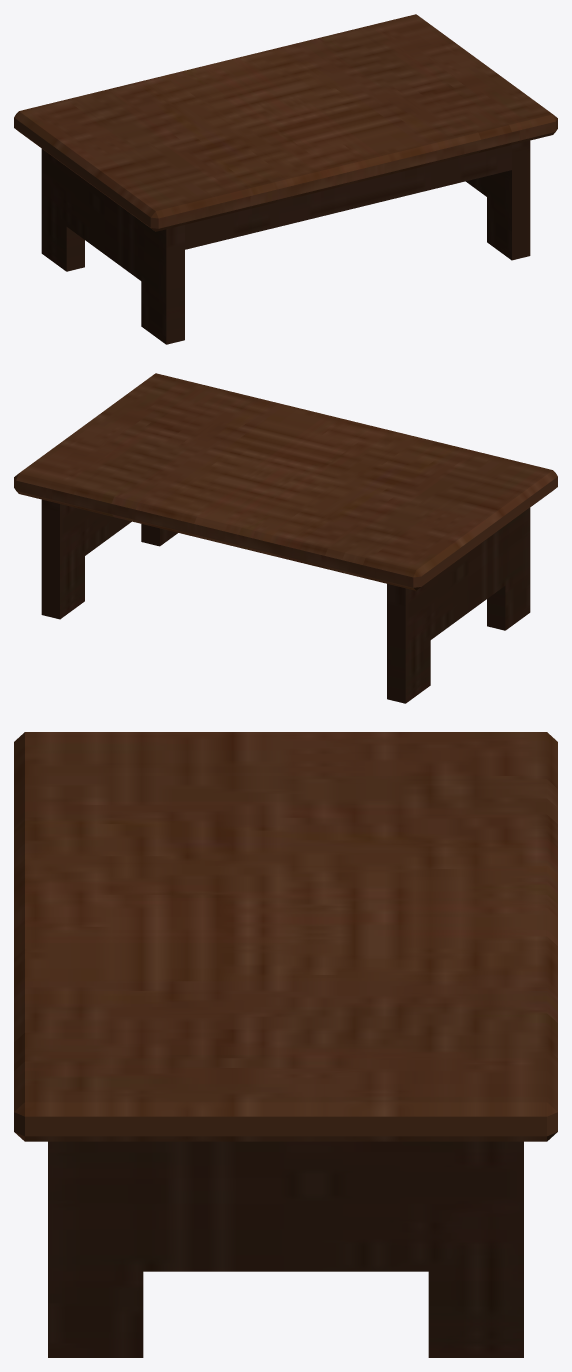
Rendered from stepstool.glb.
3 renders of one model, top to bottom at view 1: azimuth 30°, elevation 25°; view 2: azimuth 150°, elevation 25°; view 3: azimuth 270°, elevation 25°, orthographic. The views are drawn at different scales.
Visible parts, largest first — view 1: StepStoolTopBoard, StepStoolLeg0, StepStoolApron, StepStoolLeg1; view 2: StepStoolTopBoard, StepStoolLeg0, StepStoolLeg1; view 3: StepStoolTopBoard, StepStoolLeg1.
Part boxes in pixels (x1,y1,x2,y2): StepStoolTopBoard: (14, 14, 557, 231); StepStoolLeg0: (41, 149, 184, 344); StepStoolApron: (185, 145, 511, 249); StepStoolLeg1: (466, 140, 530, 260); StepStoolTopBoard: (14, 373, 557, 590); StepStoolLeg0: (387, 508, 530, 703); StepStoolLeg1: (41, 499, 177, 619); StepStoolTopBoard: (14, 732, 557, 1141); StepStoolLeg1: (48, 1141, 523, 1357).
Bounding box in the file's own units: 0.66 × 0.22 × 0.4.
Materials: 2 (2 with a texture image).
